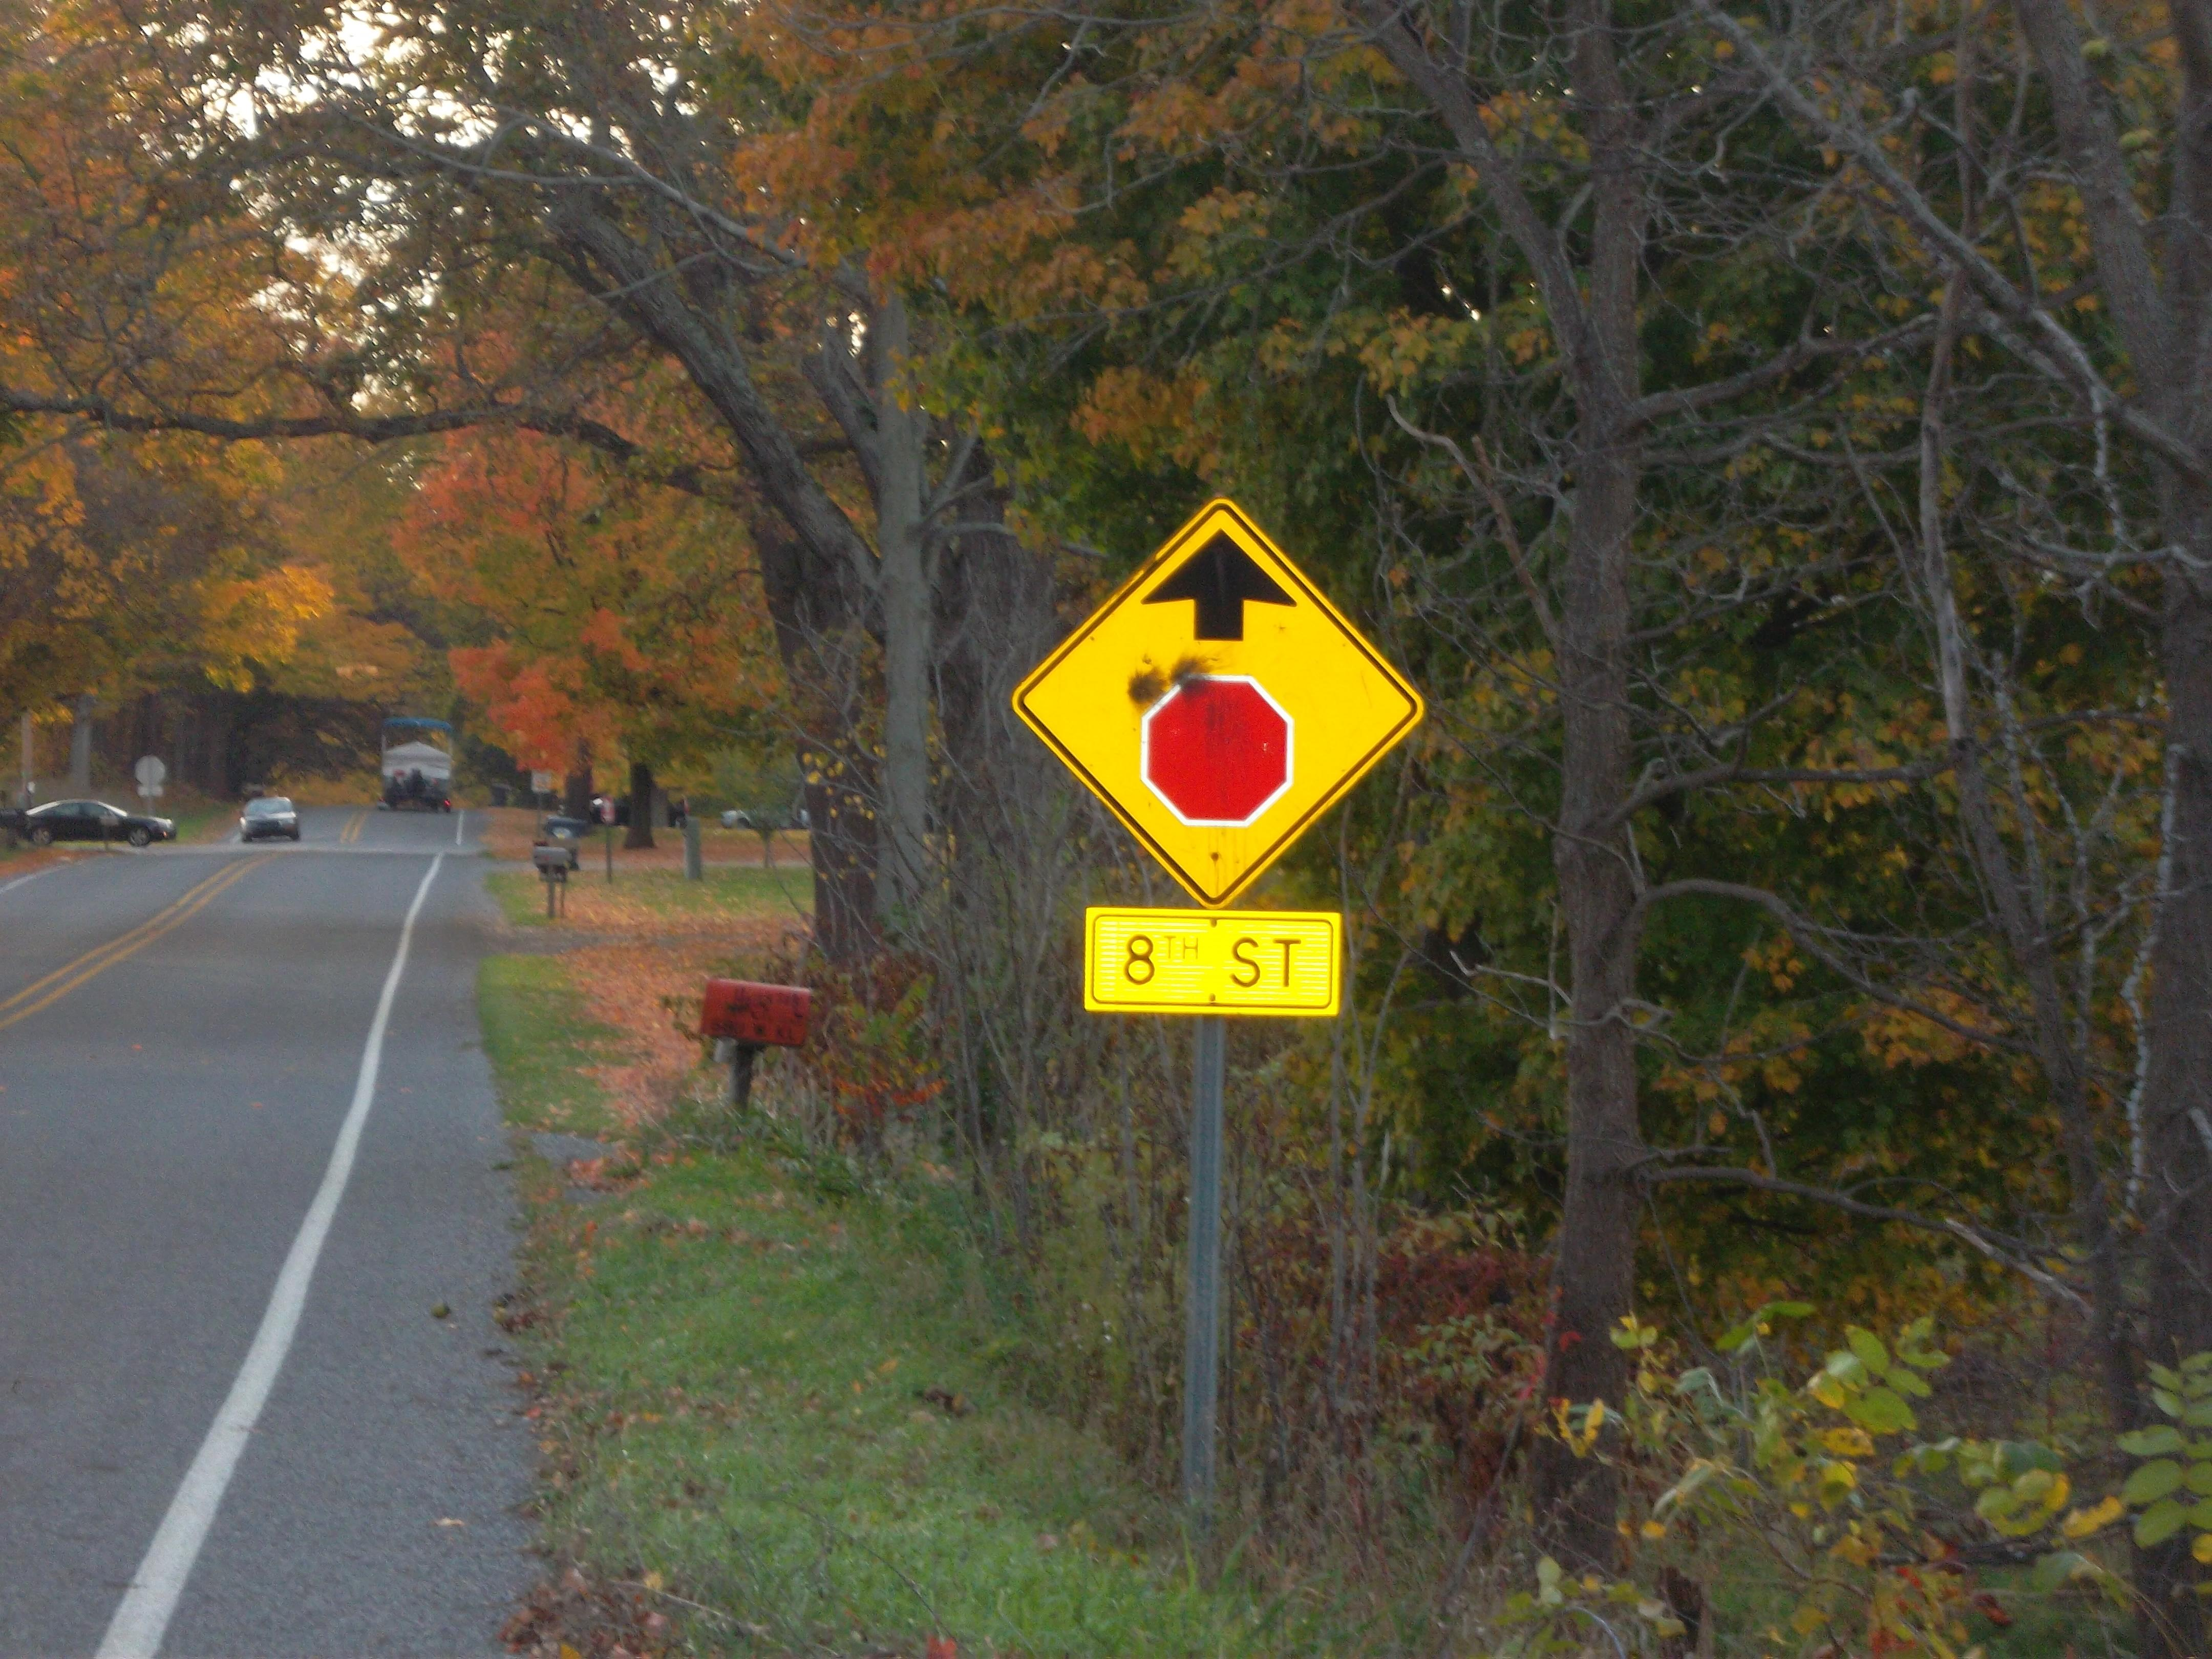stop: (1143, 667, 1299, 836)
warning: (1019, 495, 1425, 904), (1087, 906, 1341, 1014)
